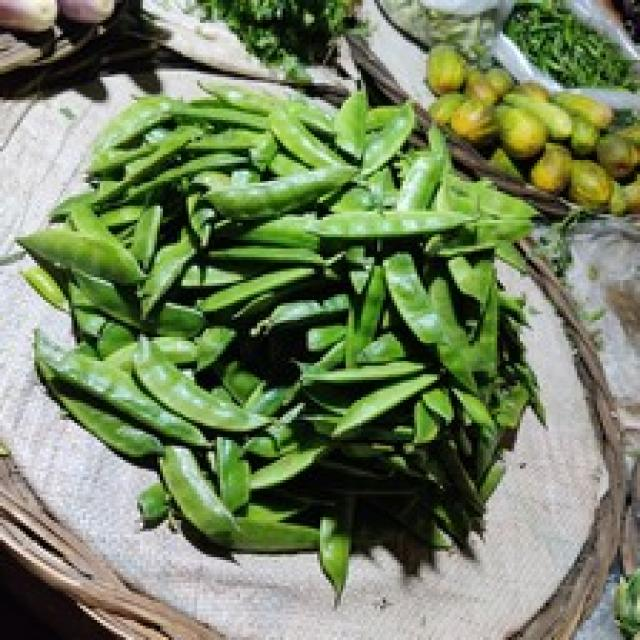Bean: (14, 114, 474, 603)
